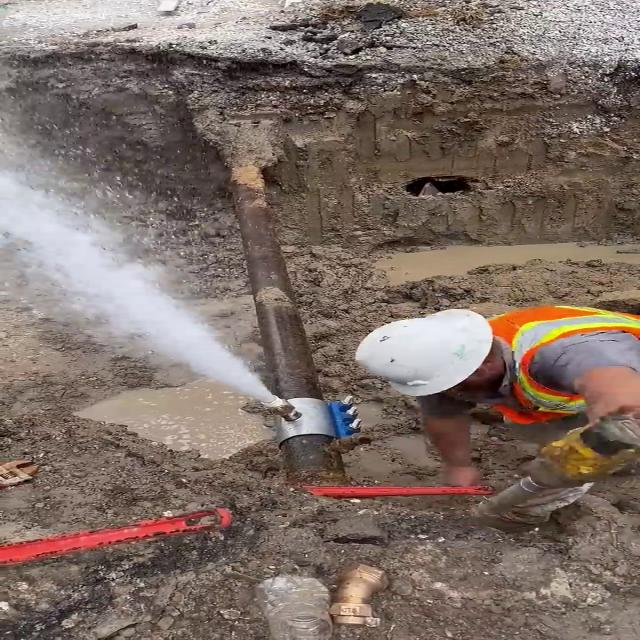leak: (0, 145, 277, 408)
